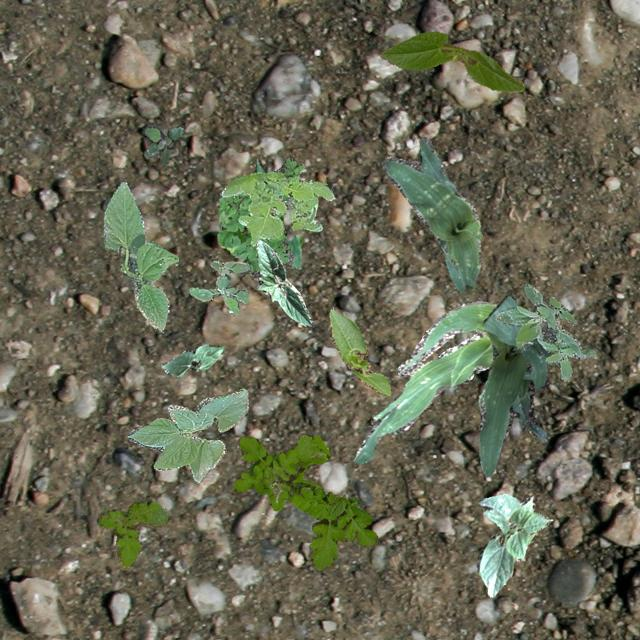crop: (352, 300, 496, 462), (381, 132, 482, 290), (478, 294, 548, 476), (102, 182, 178, 331), (126, 388, 246, 482), (379, 32, 524, 92), (476, 492, 552, 596), (328, 306, 390, 394), (256, 238, 314, 328), (160, 344, 223, 376)
weed: (232, 432, 376, 570), (216, 156, 304, 276), (494, 282, 594, 380), (220, 170, 334, 246), (96, 499, 166, 568), (188, 260, 250, 314), (142, 126, 182, 164)
